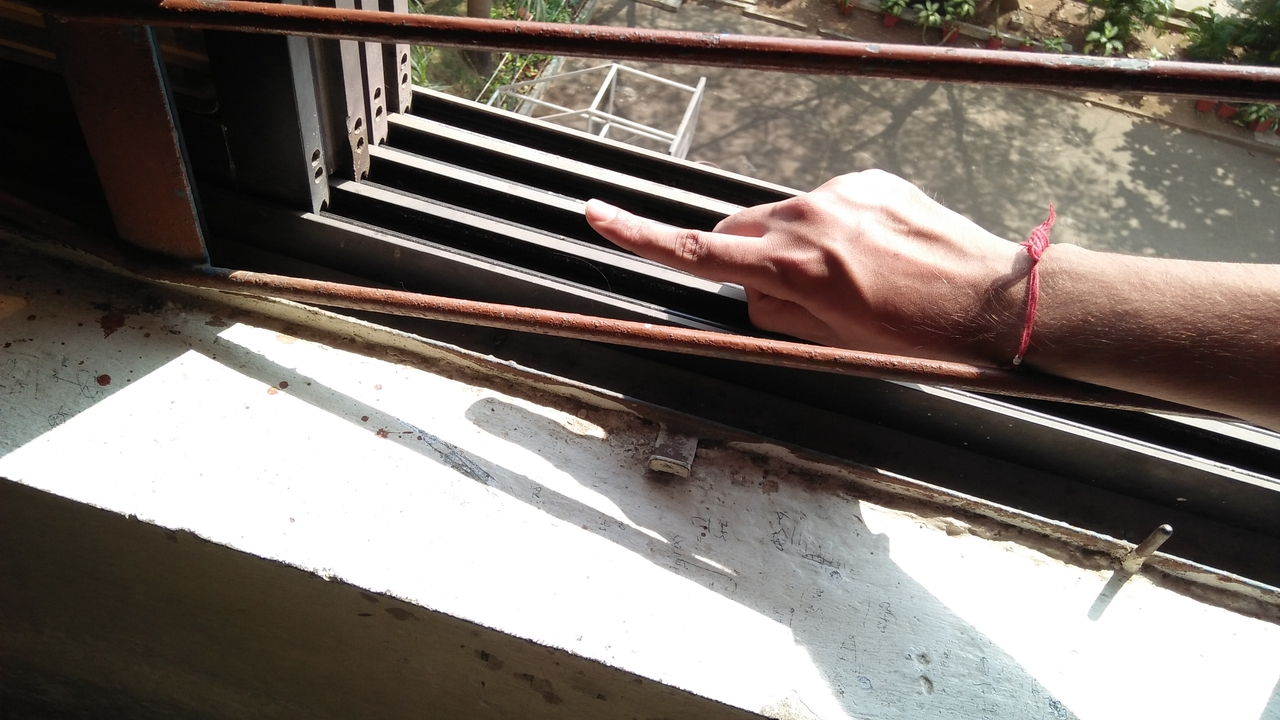fingertip: (574, 194, 619, 236)
